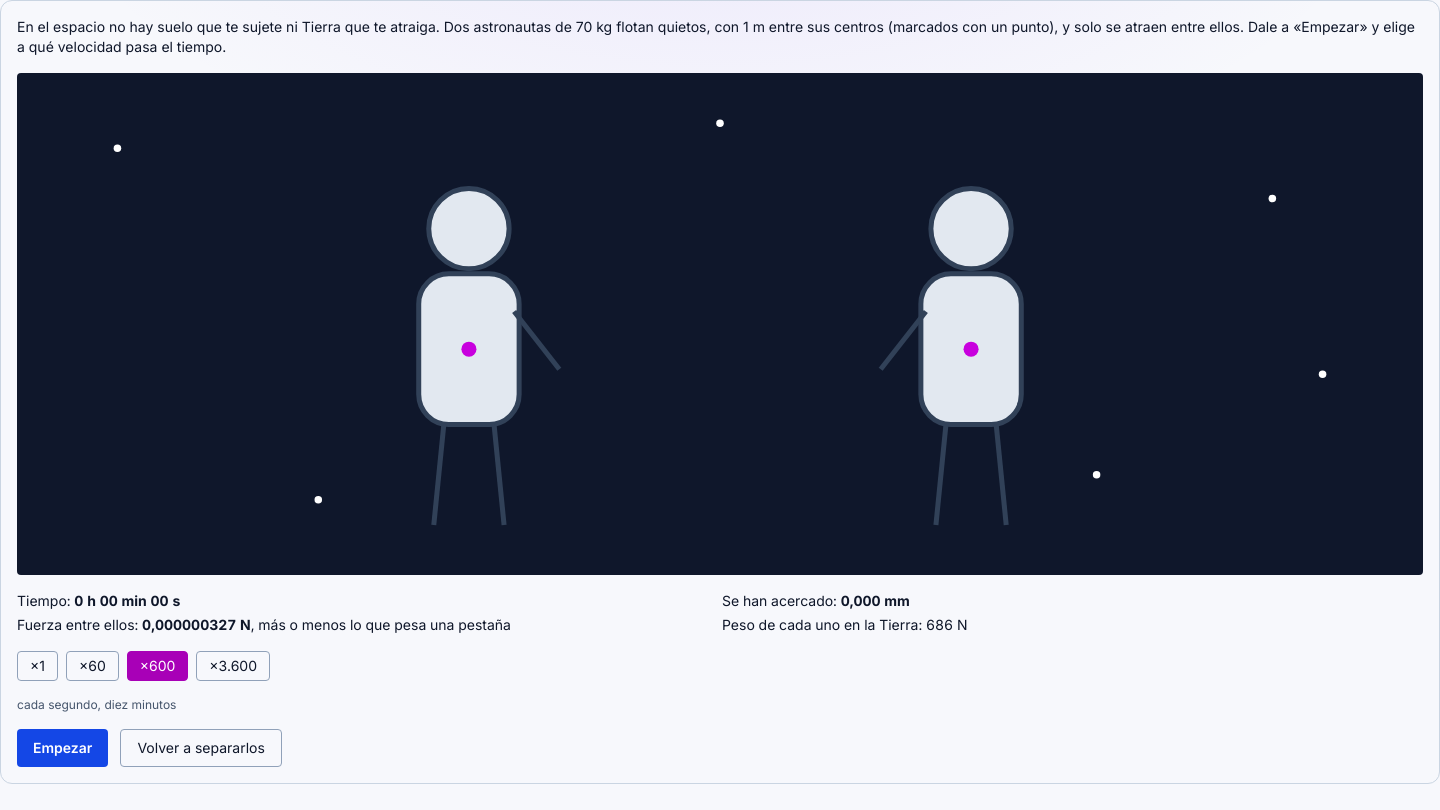
Test: the widget astronautas › stays in the reader's hands after a change from outside
Click the button "×60" at point(92, 666), box [66,651,119,681]
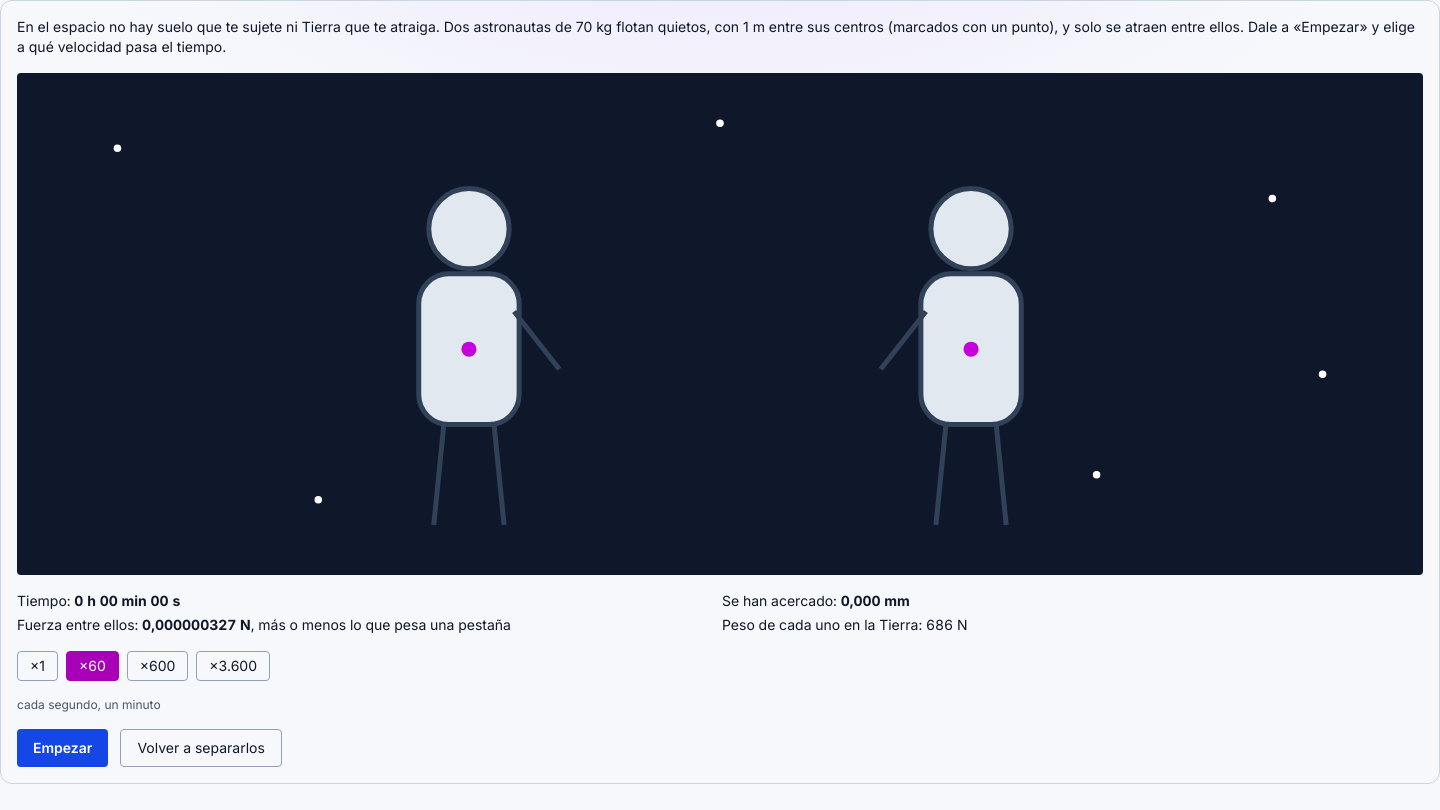
Now the text "cada segundo, un minuto" is shown, box [17,697,161,712]
